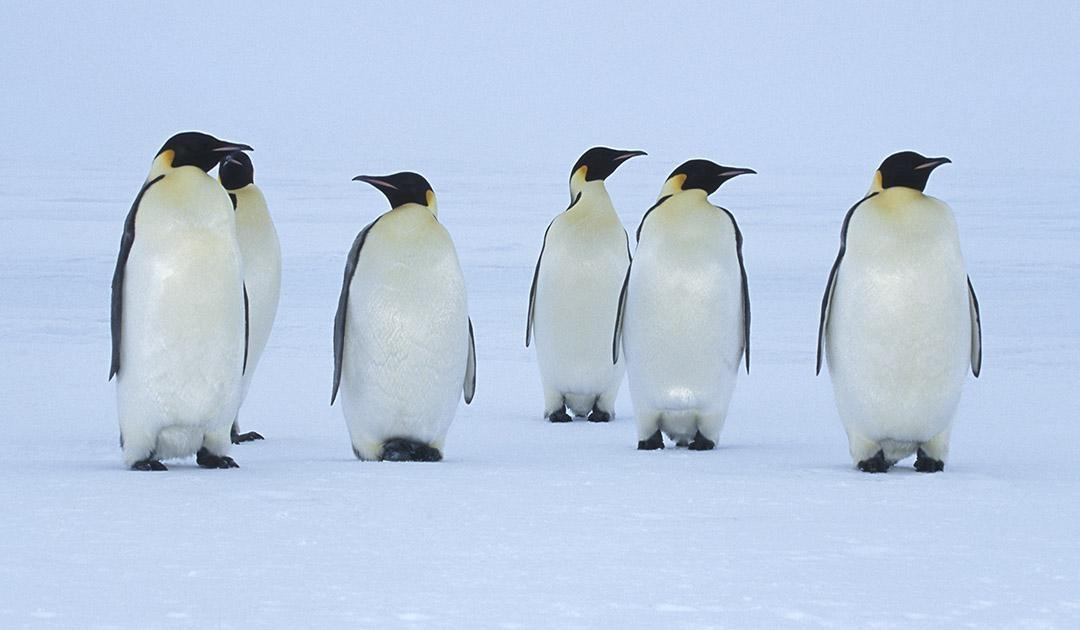Penguin: (816, 152, 980, 472), (110, 131, 249, 470), (331, 171, 476, 462), (614, 160, 755, 448), (525, 148, 645, 422), (219, 152, 280, 445)
